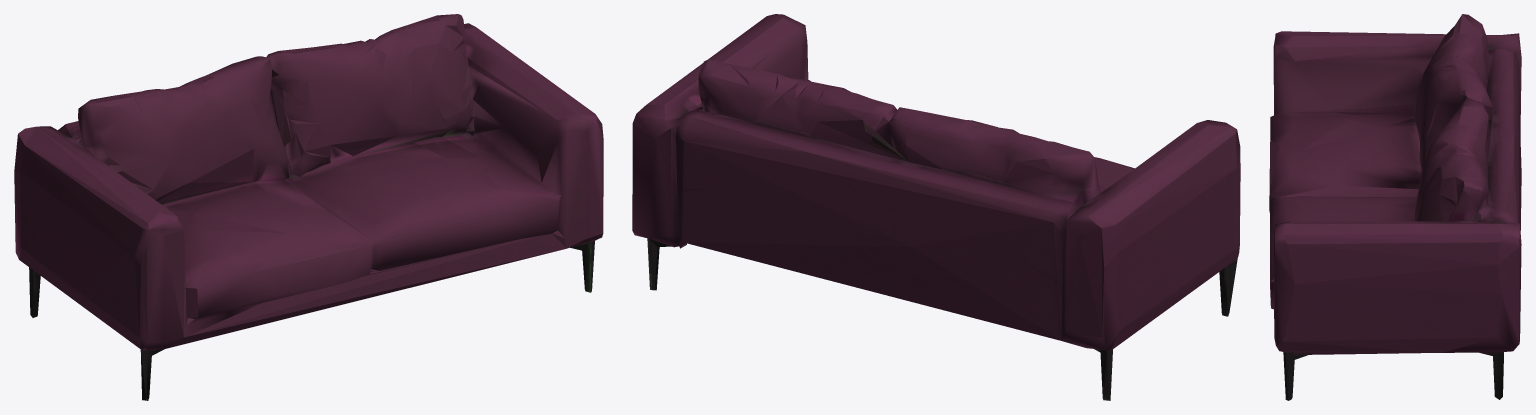
File: PR_Sofa.fbx
The picture shows the model from 3 angles, left to right: view 1: azimuth 30°, elevation 25°; view 2: azimuth 150°, elevation 25°; view 3: azimuth 270°, elevation 25°; orthographic projection. The views are drawn at different scales.
Visible parts, largest first — view 1: Mesh_0; view 2: Mesh_0; view 3: Mesh_0.
Boxes of the visible parts, x1,y1,x2,y2 form: Mesh_0: [14, 14, 603, 400]; Mesh_0: [632, 14, 1240, 400]; Mesh_0: [1269, 14, 1521, 400].
Size of the model in its own units: 189 by 85.19 by 95.63.
1 material, 1 textured.
